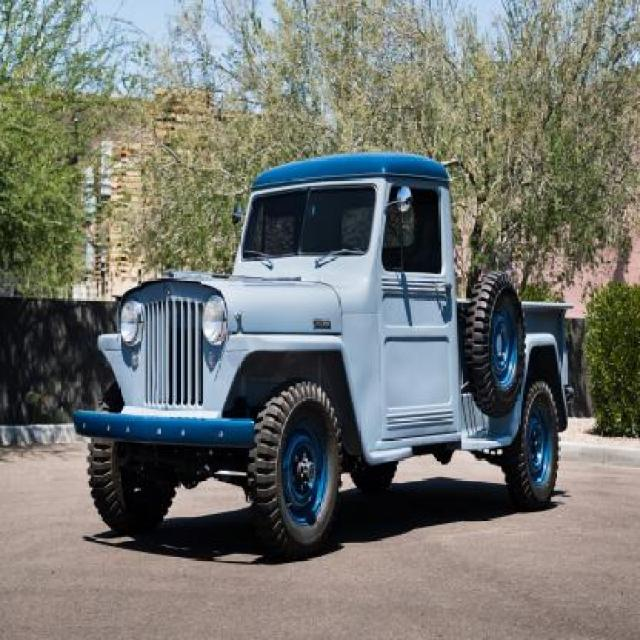Jeep: (77, 152, 575, 564)
